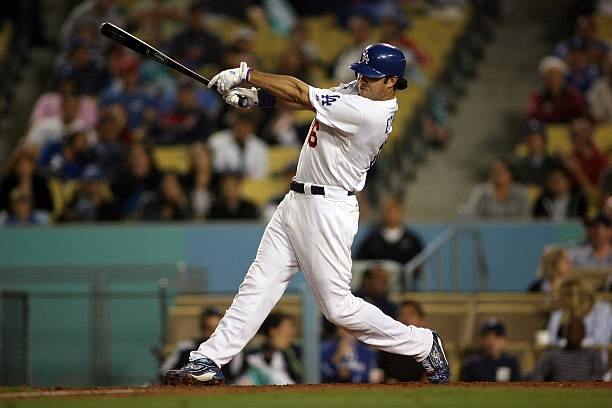bita: (99, 18, 243, 101)
